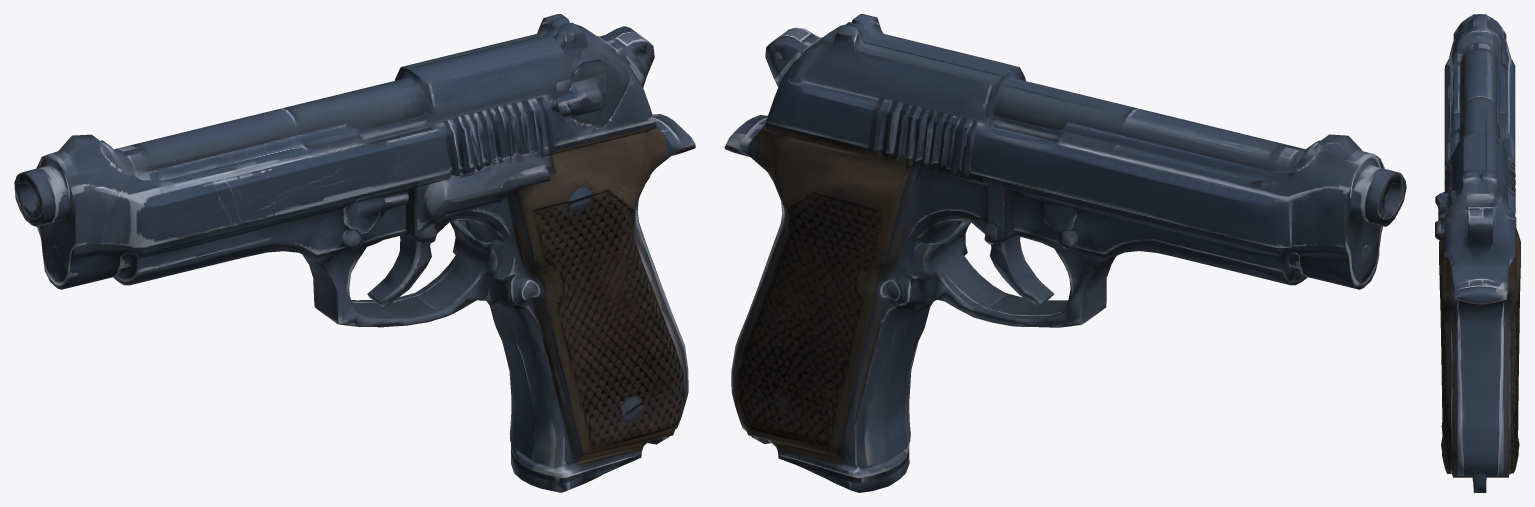
The model's file is Pistola_daniel.glb.
3 views of the same model, side by side, from view 1: azimuth 30°, elevation 25°; view 2: azimuth 150°, elevation 25°; view 3: azimuth 270°, elevation 25° (orthographic). The views are drawn at different scales.
Visible parts, largest first — view 1: tripo_node_a32b57d4-061a-4a71-b33f-59b9815f515e; view 2: tripo_node_a32b57d4-061a-4a71-b33f-59b9815f515e; view 3: tripo_node_a32b57d4-061a-4a71-b33f-59b9815f515e.
Boxes of the visible parts, <box> form: tripo_node_a32b57d4-061a-4a71-b33f-59b9815f515e: <box>14,14,695,492</box>; tripo_node_a32b57d4-061a-4a71-b33f-59b9815f515e: <box>724,14,1406,492</box>; tripo_node_a32b57d4-061a-4a71-b33f-59b9815f515e: <box>1435,14,1520,492</box>.
Bounding box in the file's own units: 1 × 0.6613 × 0.1735.
Materials: 1 (1 with a texture image).
